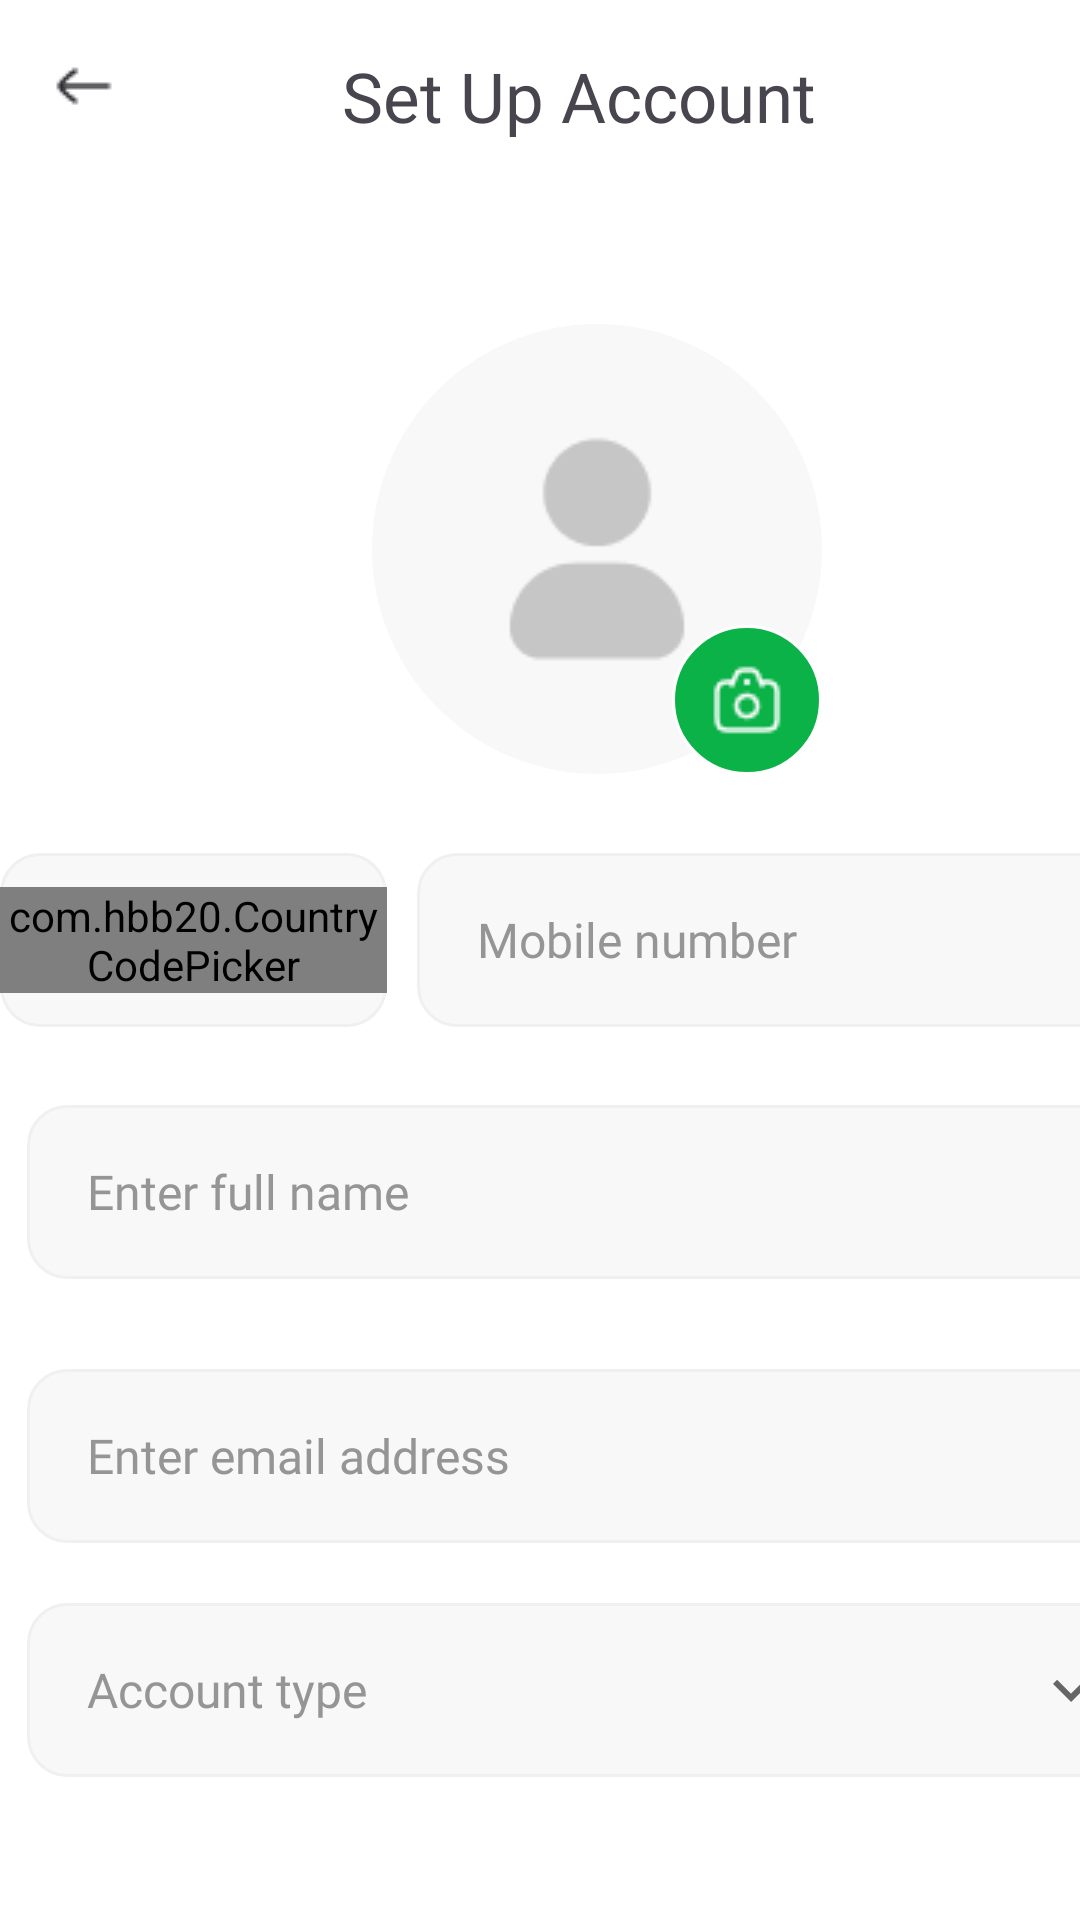

Screen size 1080x1920. Icon name, then its center in pixels as [x,y]:
arrow left: [84,86]
camera: [747,700]
user: [597,549]
